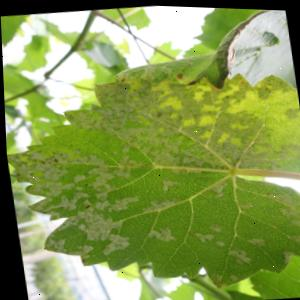Folha: (2, 55, 300, 300)
Fungo: (144, 143, 200, 176), (260, 184, 300, 223), (73, 209, 124, 237), (134, 195, 184, 217), (93, 232, 131, 257), (104, 190, 143, 213), (87, 166, 118, 192), (56, 106, 93, 127), (37, 231, 66, 257), (113, 152, 143, 177), (94, 110, 124, 135), (23, 194, 60, 214), (201, 149, 236, 169), (72, 194, 105, 214), (95, 78, 124, 100), (201, 127, 231, 147), (69, 240, 96, 262), (38, 171, 65, 193), (207, 175, 230, 199), (144, 222, 173, 241), (280, 227, 300, 254), (271, 137, 299, 154), (223, 246, 249, 264), (187, 229, 214, 246), (239, 232, 268, 247), (79, 149, 103, 167), (6, 149, 31, 166), (156, 174, 180, 191), (170, 112, 190, 132), (46, 149, 67, 167), (260, 152, 284, 167), (223, 86, 246, 101), (216, 107, 237, 123), (237, 123, 263, 135), (279, 103, 296, 121), (169, 92, 188, 108), (203, 87, 220, 102), (19, 161, 44, 171), (278, 250, 293, 265), (147, 292, 172, 300), (15, 173, 32, 184)
